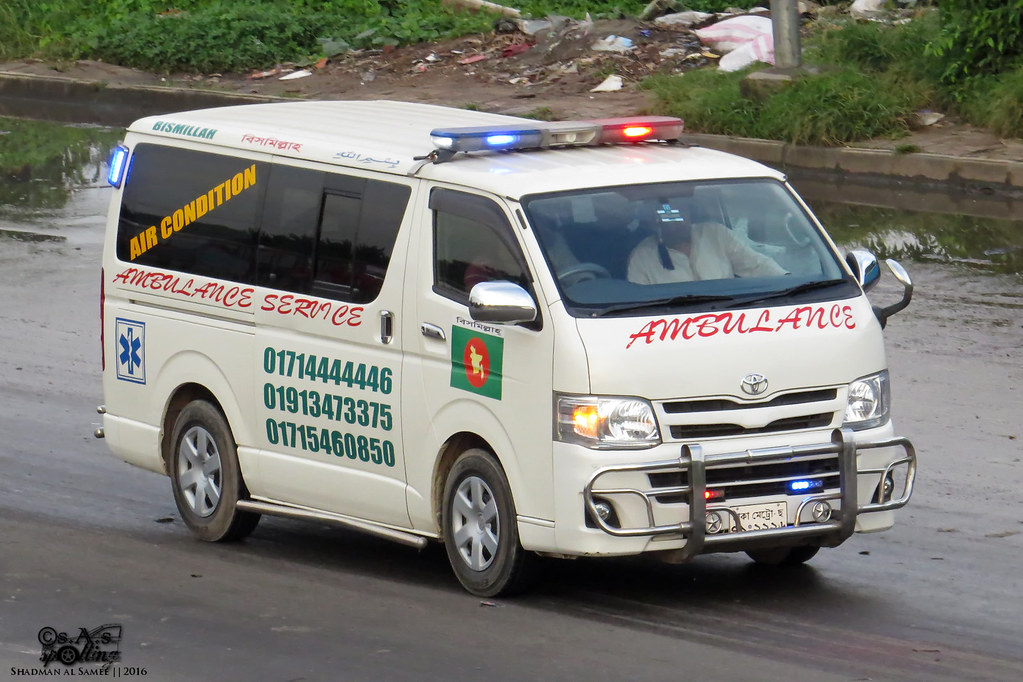ambulance: (89, 96, 920, 597)
